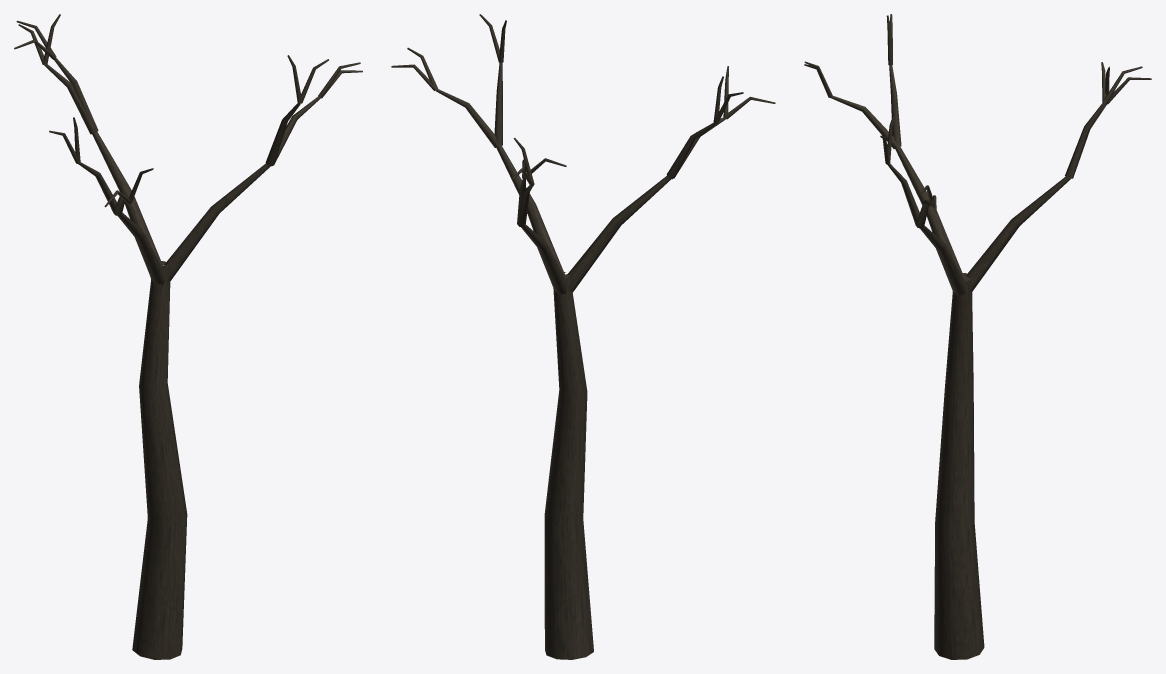
Rendered from nature.tree.dead.glb.
3 views of the same model, side by side, from view 1: azimuth 30°, elevation 25°; view 2: azimuth 150°, elevation 25°; view 3: azimuth 270°, elevation 25° (orthographic). The views are drawn at different scales.
Visible parts, largest first — view 1: nature.tree.dead; view 2: nature.tree.dead; view 3: nature.tree.dead.
Boxes of the visible parts, bbox=[...] form: nature.tree.dead: bbox=[14, 14, 362, 659]; nature.tree.dead: bbox=[391, 14, 775, 659]; nature.tree.dead: bbox=[804, 14, 1151, 659].
Bounding box in the file's own units: 4.23 × 7.18 × 3.87.
1 material, 1 textured.
